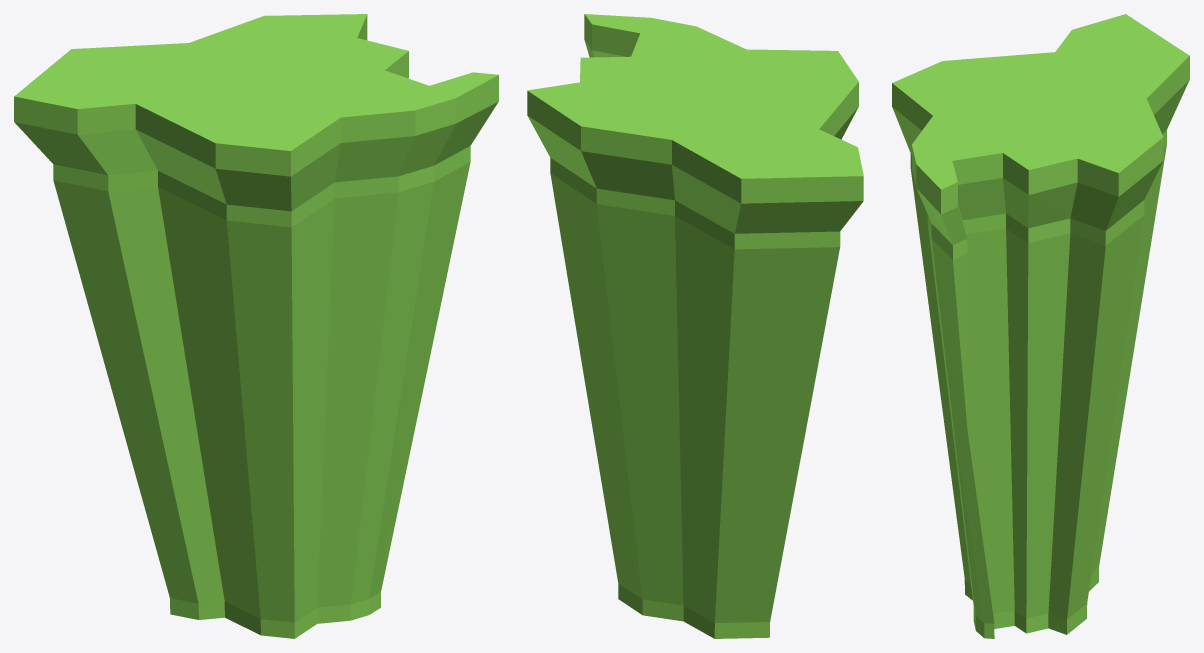
File: CHN.obj
3 renders of one model, left to right at view 1: azimuth 30°, elevation 25°; view 2: azimuth 150°, elevation 25°; view 3: azimuth 270°, elevation 25°, orthographic. The views are drawn at different scales.
Parts seen in each view (by area): view 1: CHN; view 2: CHN; view 3: CHN.
Part boxes in pixels (x1,y1,x2,y2): CHN: (14, 14, 498, 638); CHN: (527, 14, 863, 638); CHN: (892, 14, 1189, 638).
Size of the model in its own units: 39.91 by 52.07 by 28.56.
